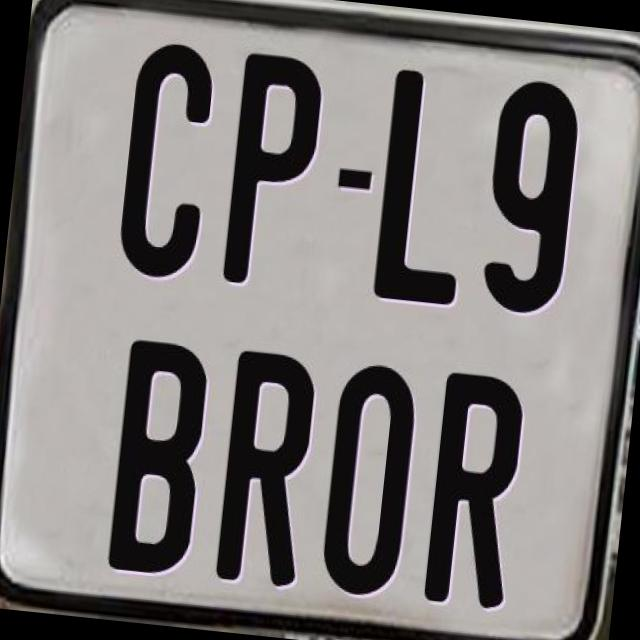0: (316, 359, 418, 596)
9: (474, 77, 582, 320)
B: (104, 335, 210, 582)
C: (115, 41, 224, 284)
L: (372, 64, 486, 307)
P: (220, 47, 322, 286)
R: (214, 349, 323, 596), (421, 370, 528, 614)
